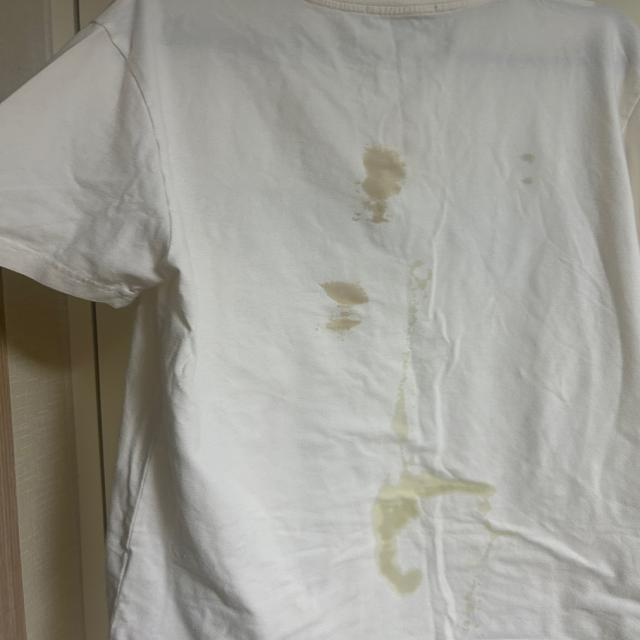stain: (356, 467, 510, 512), (342, 148, 421, 226), (371, 506, 422, 596), (304, 278, 368, 334), (378, 250, 437, 304), (375, 378, 423, 438), (499, 144, 541, 192)
